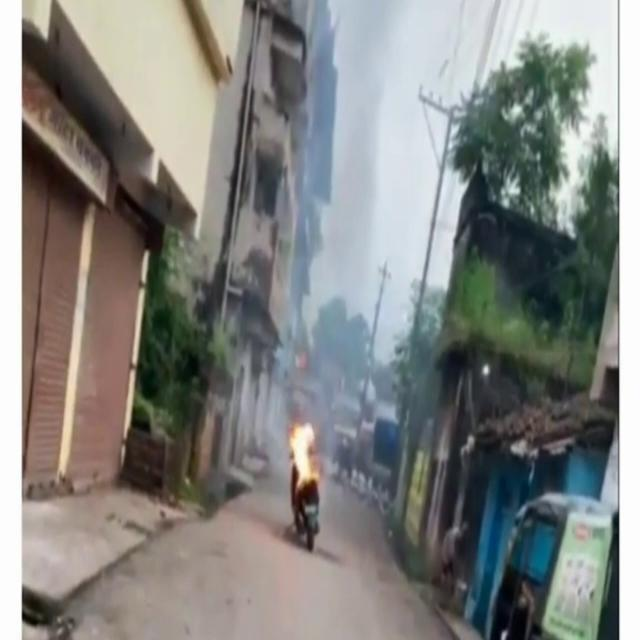Fire: (284, 412, 322, 496)
